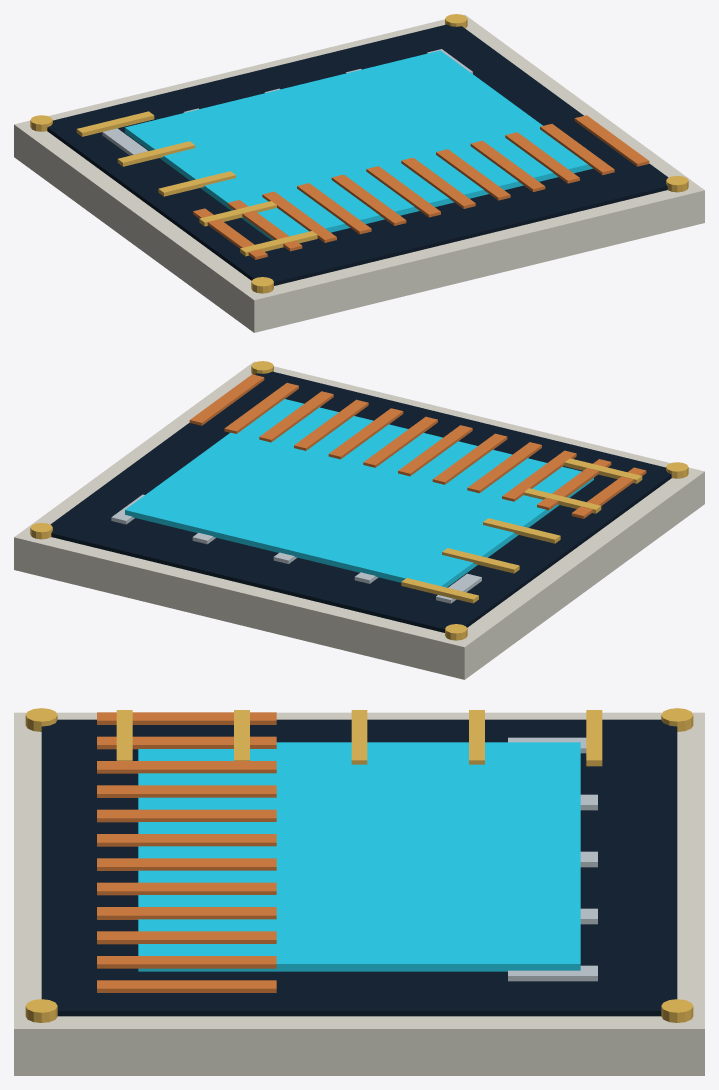
File: 06_L79_LogicChiplet.fbx
3 views of the same model, one above another, from view 1: azimuth 30°, elevation 25°; view 2: azimuth 150°, elevation 25°; view 3: azimuth 270°, elevation 25° (orthographic). The views are drawn at different scales.
Parts seen in each view (by area): view 1: LogicChiplet; view 2: LogicChiplet; view 3: LogicChiplet.
Boxes of the visible parts, <box> form: LogicChiplet: <box>14,14,704,332</box>; LogicChiplet: <box>14,361,704,679</box>; LogicChiplet: <box>14,708,704,1075</box>.
Size of the model in its own units: 130 by 14.29 by 120.
